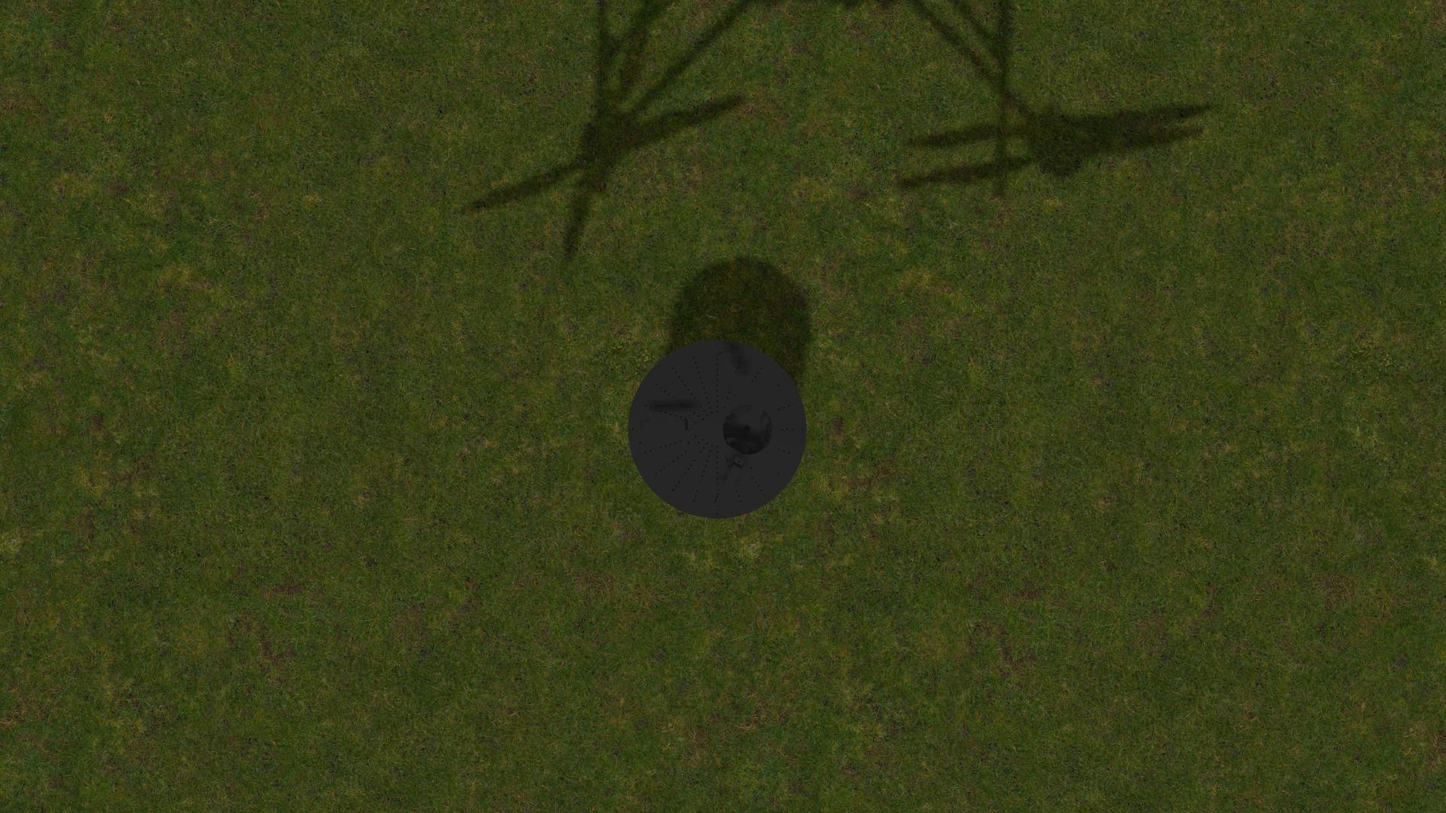alca: (712, 456, 745, 511), (714, 346, 745, 400), (637, 419, 694, 431)
armadilha: (628, 339, 807, 518)
